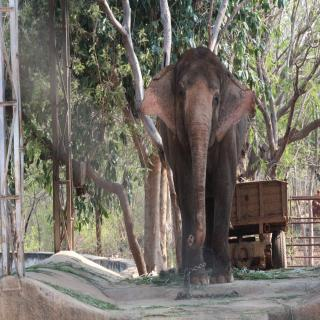Elephant: (139, 42, 259, 290)
